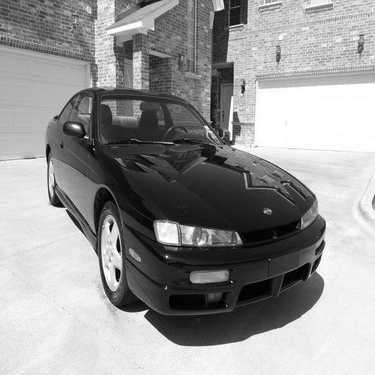car: (40, 82, 331, 323)
